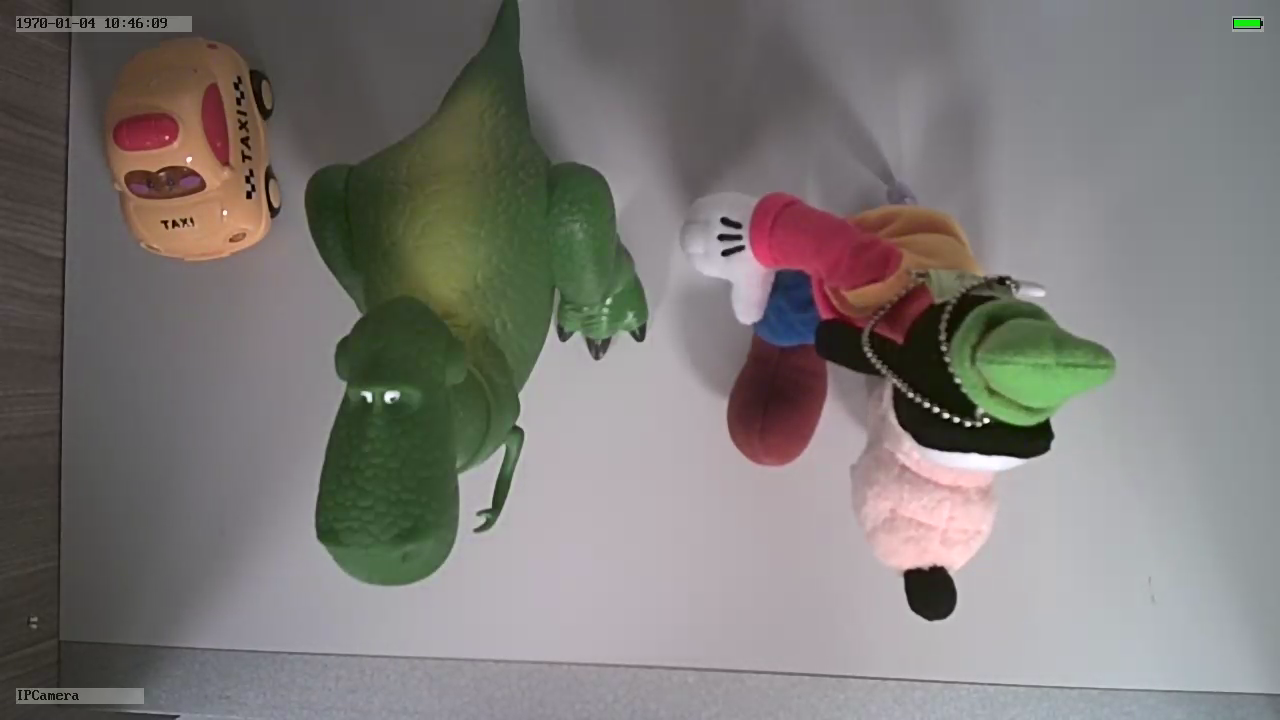goofy: (670, 182, 1122, 629)
